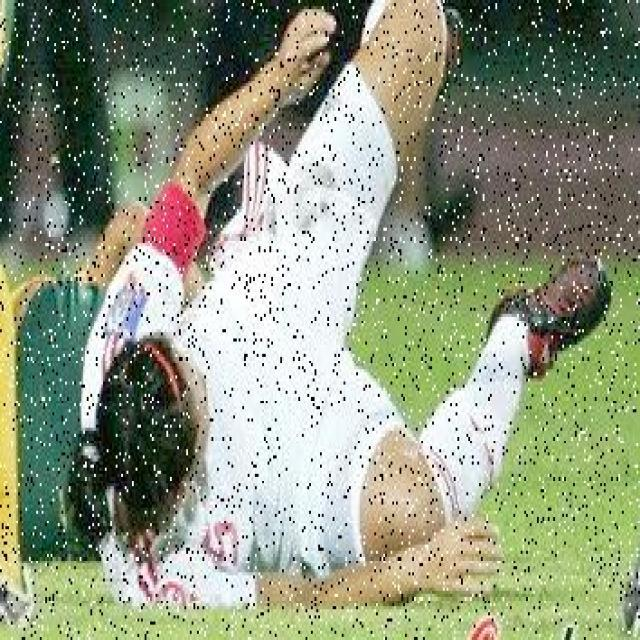fall: (90, 0, 610, 603)
